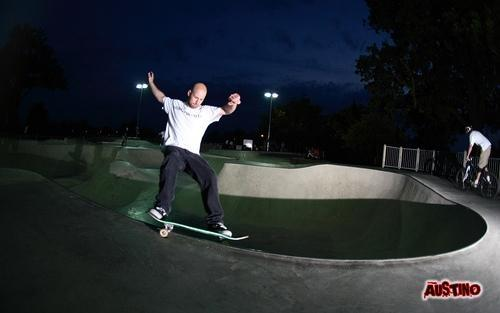bicycle: (461, 157, 500, 201)
